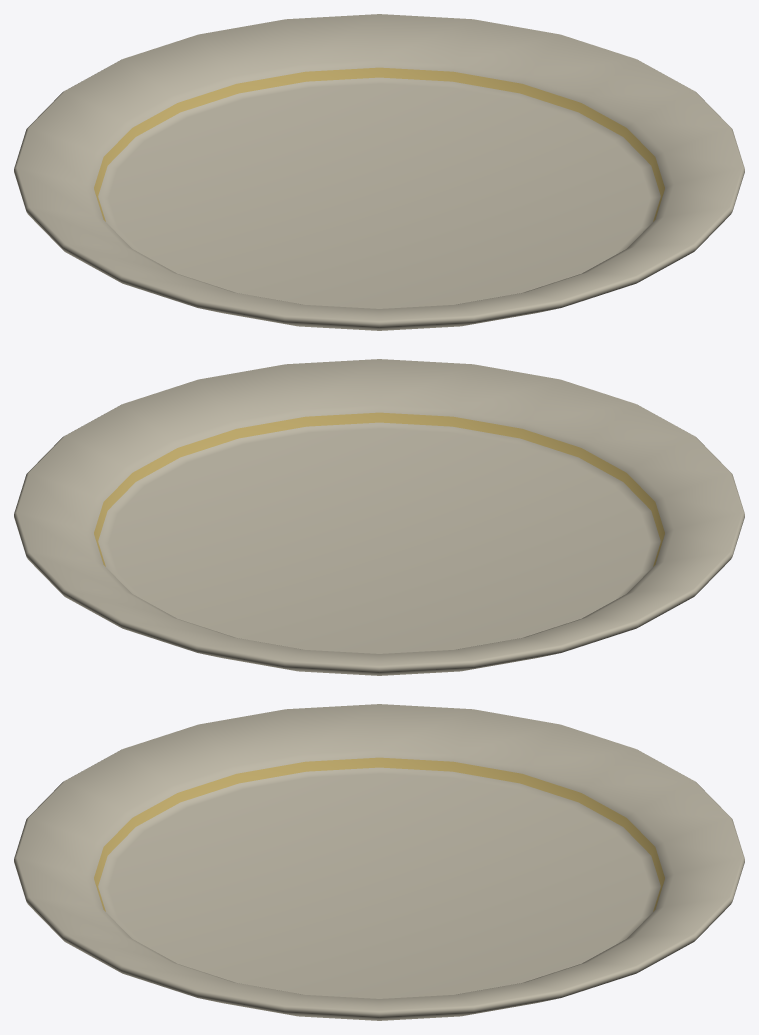
Rendered from Cuttlery-Plate_01.fbx.
The picture shows the model from 3 angles, top to bottom: view 1: azimuth 30°, elevation 25°; view 2: azimuth 150°, elevation 25°; view 3: azimuth 270°, elevation 25°; orthographic projection.
Visible parts, largest first — view 1: Cuttlery-Plate_01; view 2: Cuttlery-Plate_01; view 3: Cuttlery-Plate_01.
Boxes of the visible parts, left/top/right/bottom form: Cuttlery-Plate_01: left=14, top=14, right=744, bottom=330; Cuttlery-Plate_01: left=14, top=359, right=744, bottom=675; Cuttlery-Plate_01: left=14, top=704, right=744, bottom=1020.
Size of the model in its own units: 1015 by 75.68 by 1015.
